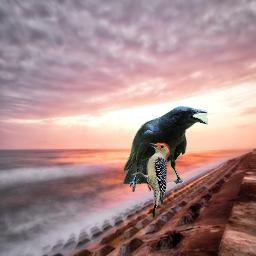Crow: (121, 106, 208, 192)
Woodpecker: (131, 142, 170, 219)
